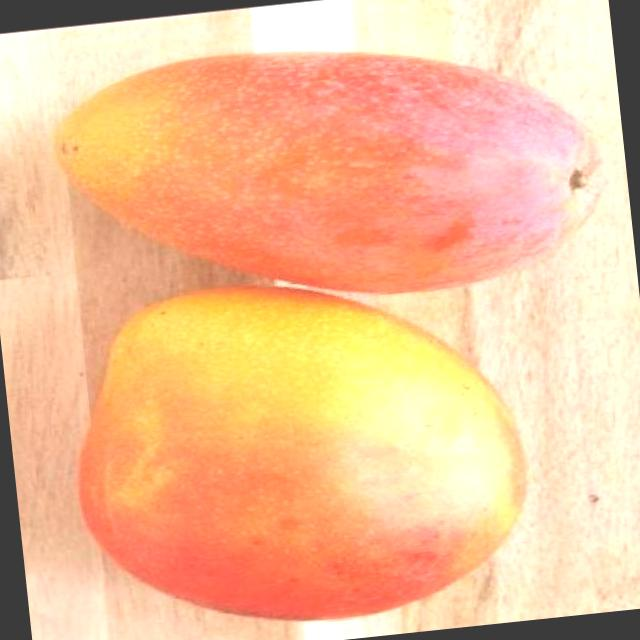Mango: (54, 255, 543, 640), (46, 9, 624, 331)
